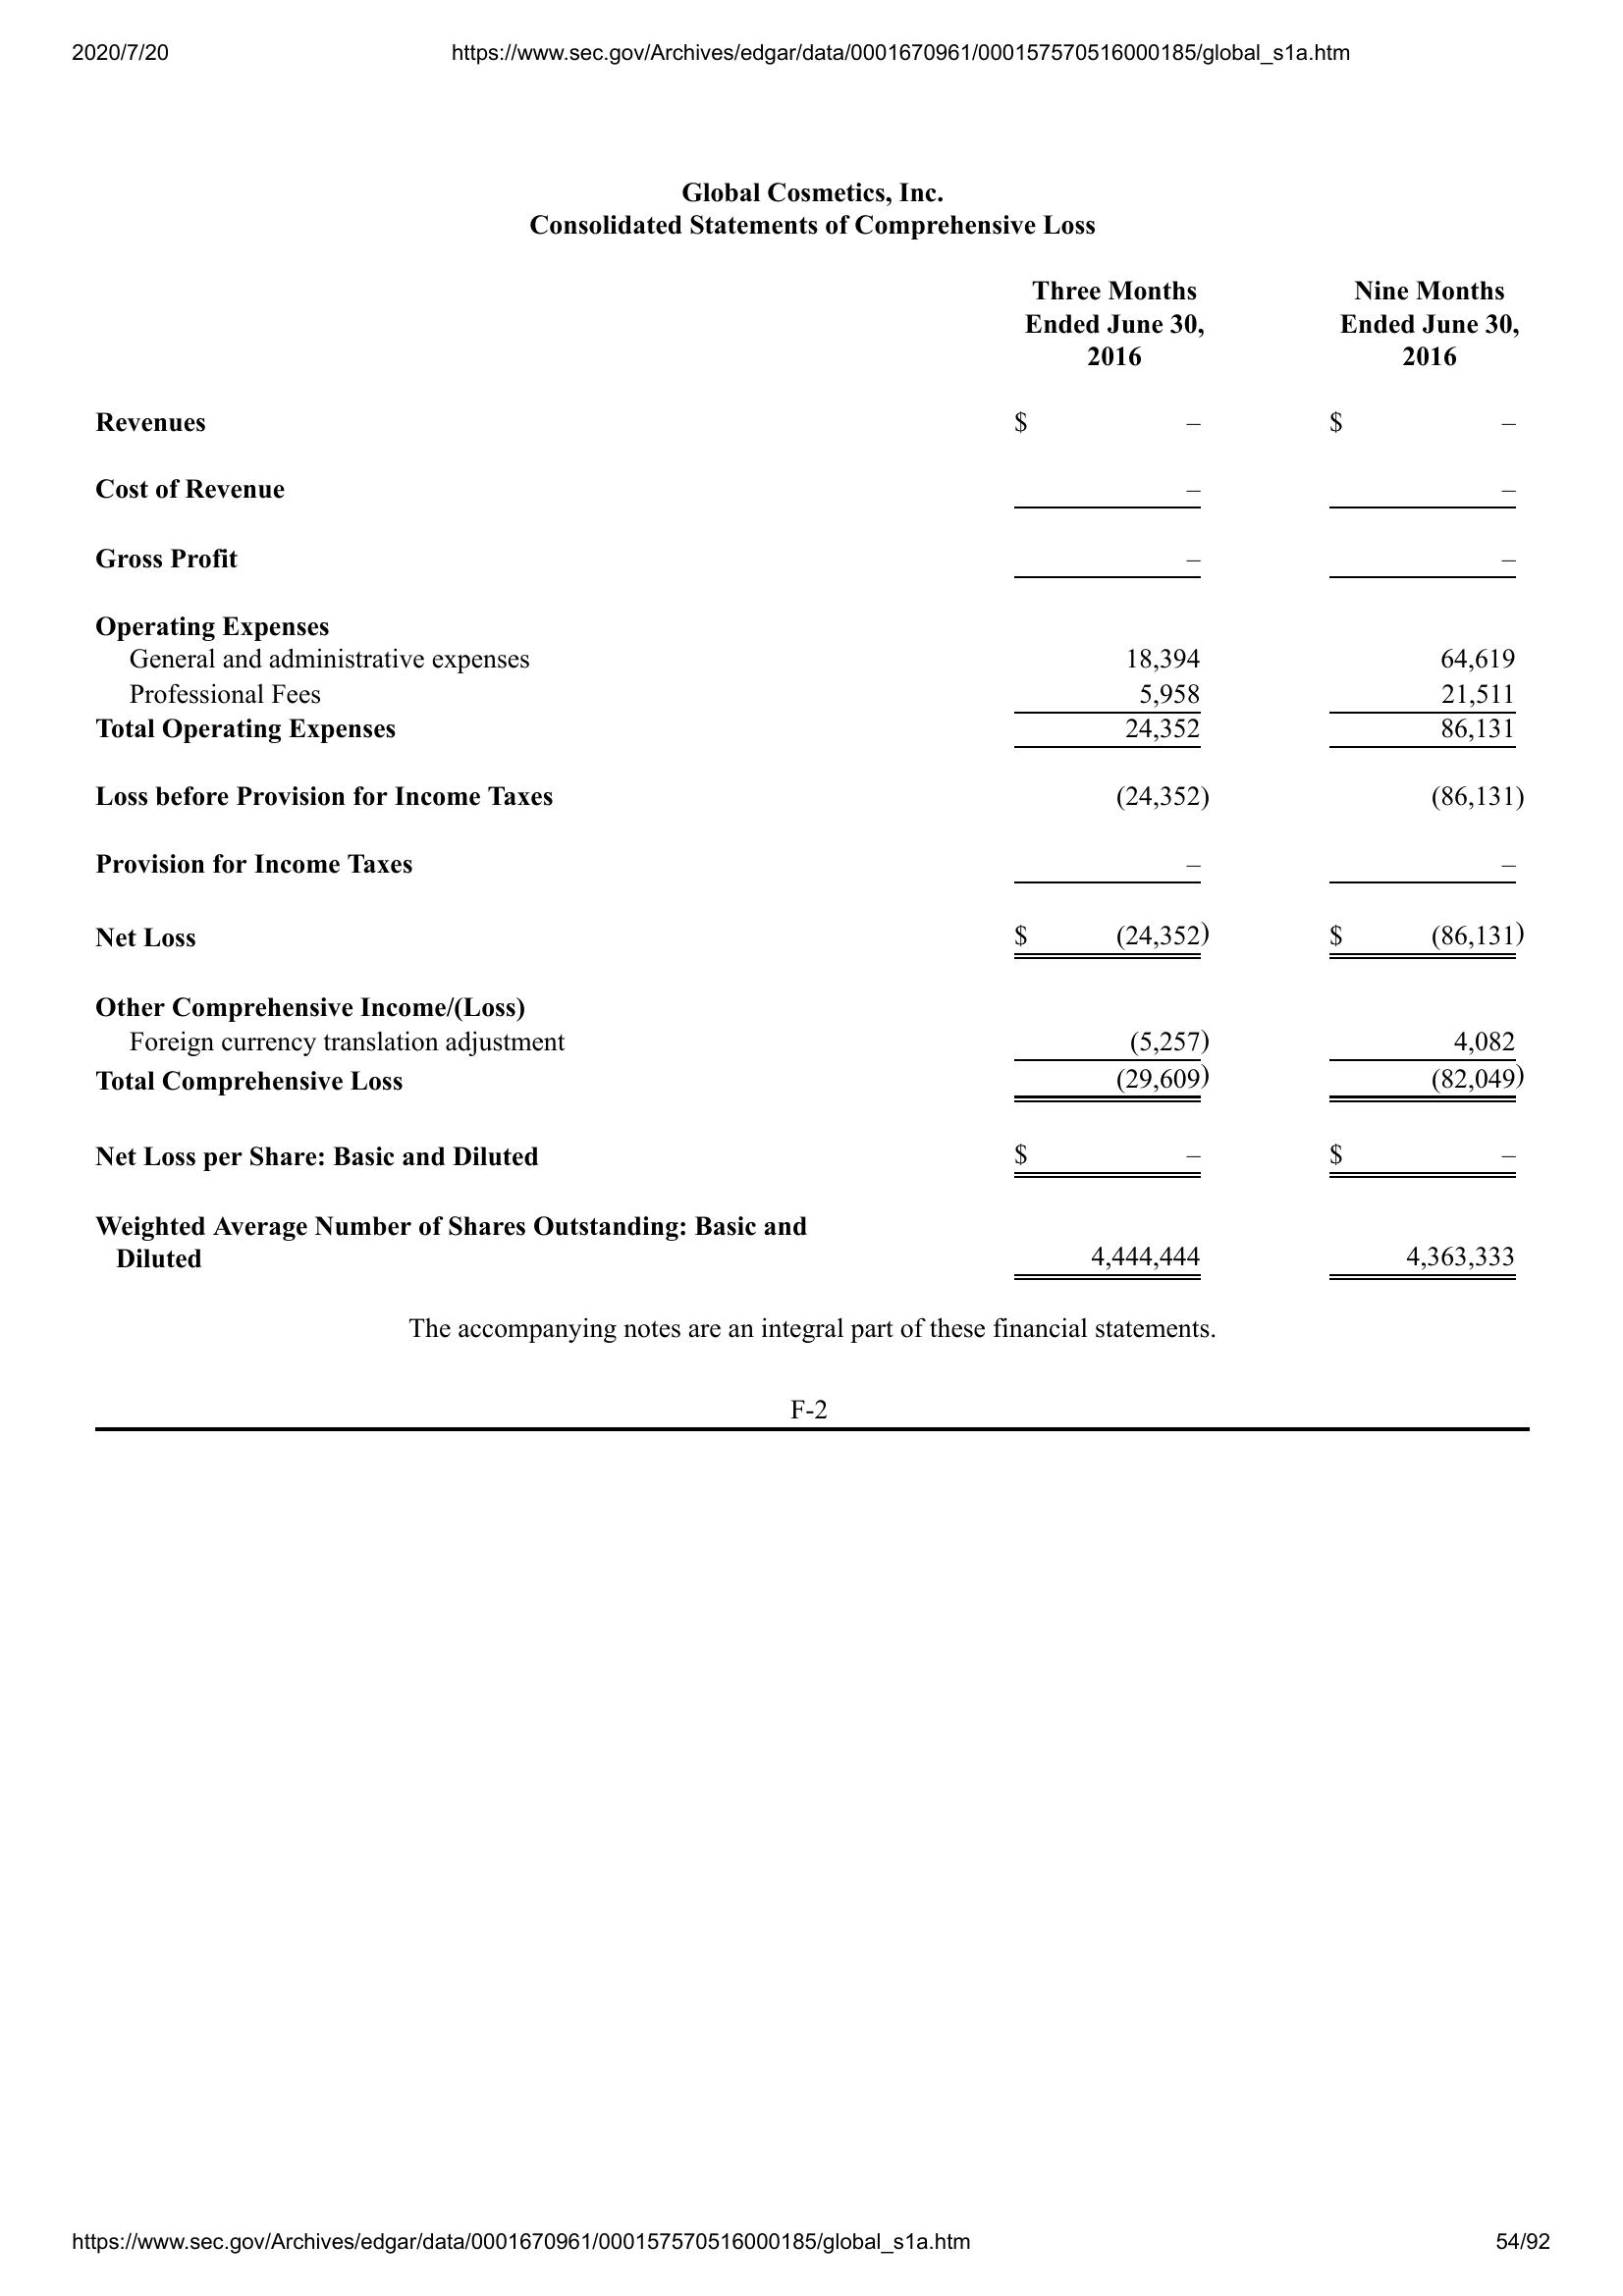table: (86, 267, 1526, 1297)
